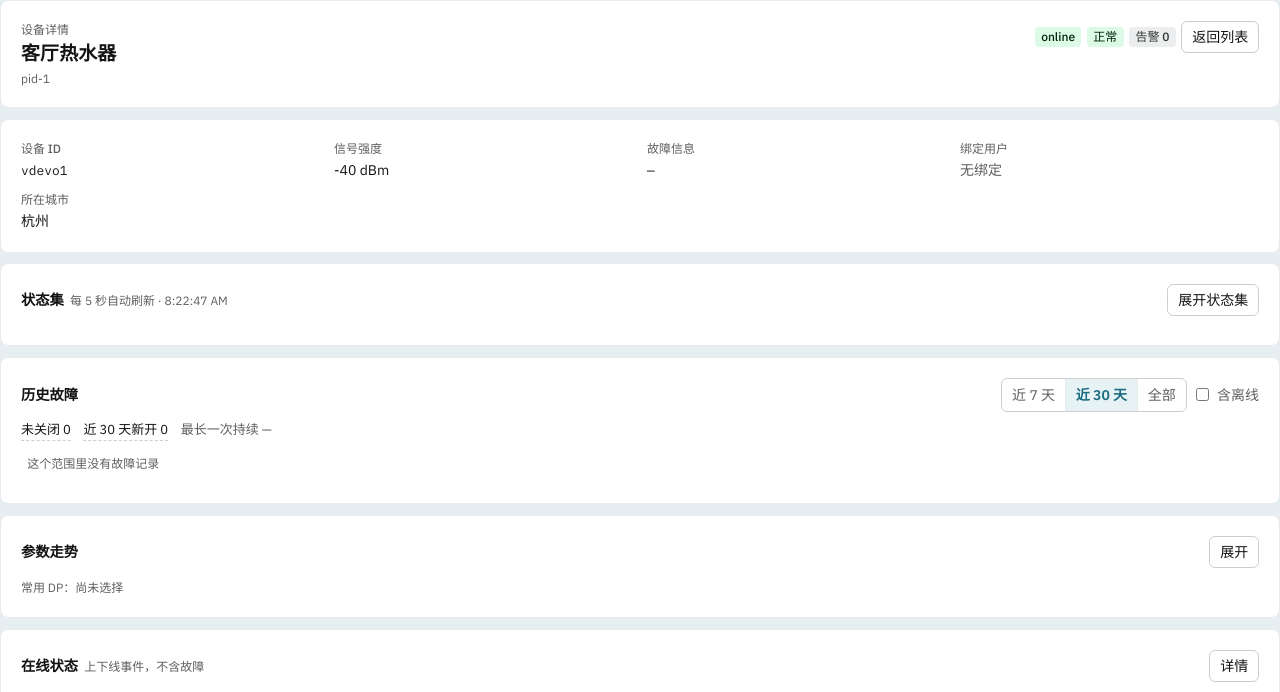
Test: DeviceDetailPage fault history placement › places 历史故障 under the status set and above firmware, without a close action
expect the text "暂无状态点" is not shown: met
Click the button "展开状态集": click(1213, 300) [1167, 284, 1259, 316]
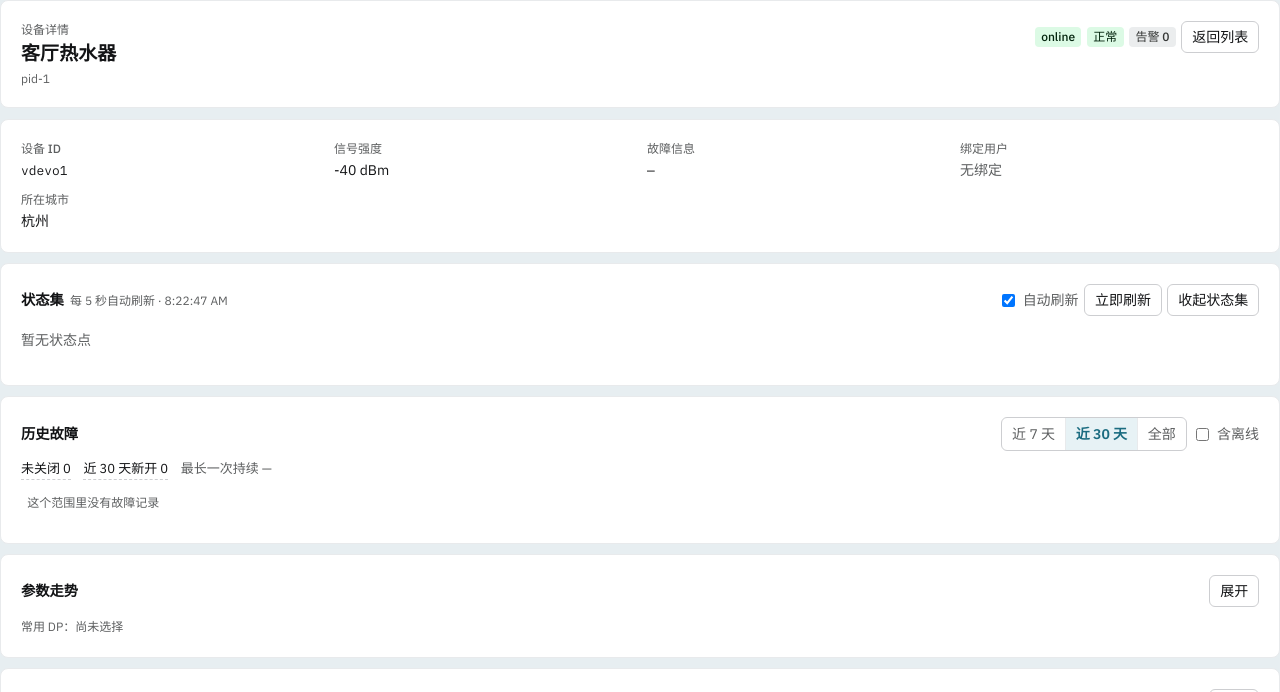
expect the button "收起状态集" is expanded: met, box [1167, 284, 1259, 316]
expect the text "暂无状态点" is shown: met, box [21, 331, 91, 349]
expect the checkbox labelled "自动刷新" is shown: met, box [1002, 294, 1015, 307]
